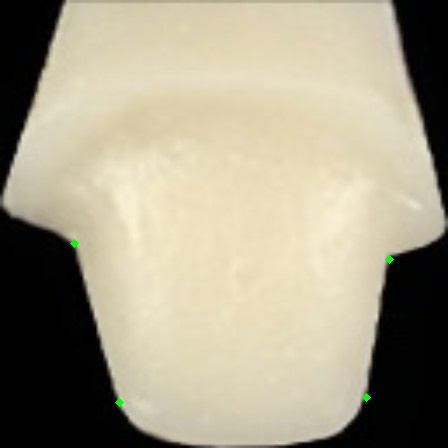coin_1: (389, 259, 409, 279)
coin_2: (366, 397, 386, 417)
coin_3: (74, 243, 94, 263)
coin_4: (119, 402, 139, 422)
